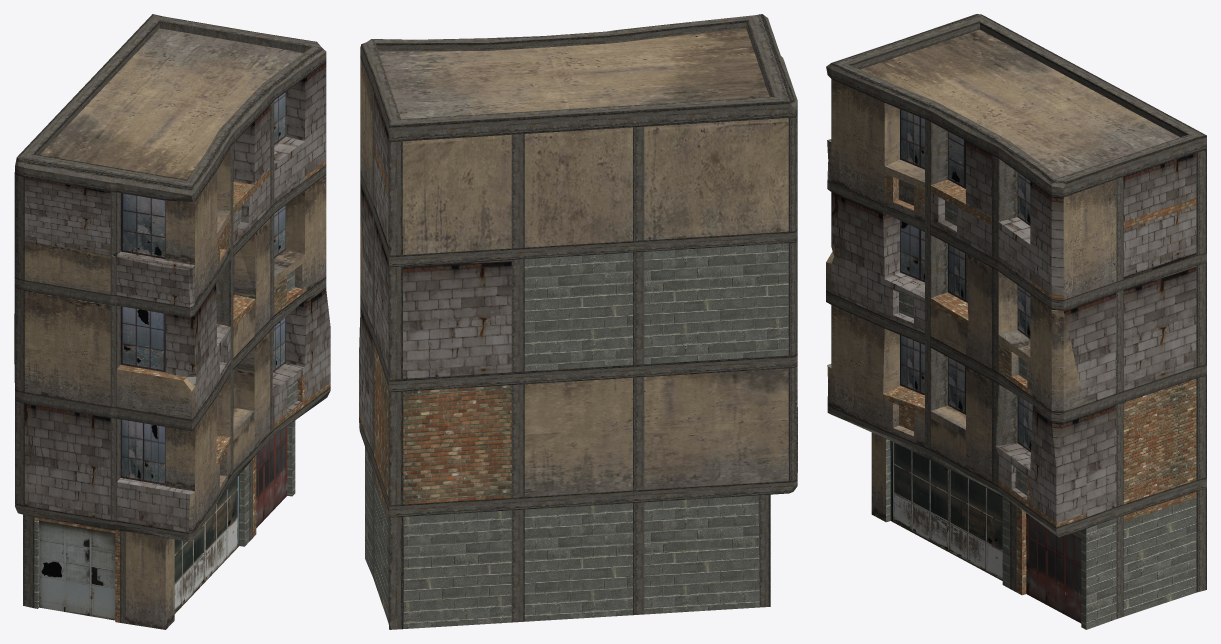
File: House3.FBX
3 views of the same model, side by side, from view 1: azimuth 30°, elevation 25°; view 2: azimuth 150°, elevation 25°; view 3: azimuth 270°, elevation 25° (orthographic). The views are drawn at different scales.
Parts seen in each view (by area): view 1: House3; view 2: House3; view 3: House3.
Part boxes in pixels (x1,y1,x2,y2): House3: (14,14,330,629); House3: (359,14,797,629); House3: (826,14,1206,629).
Size of the model in its own units: 410 by 501 by 381.
9 materials, 9 textured.
